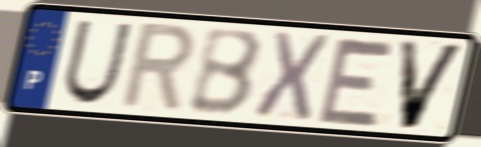B: (186, 28, 265, 119)
E: (315, 33, 399, 130)
R: (116, 20, 198, 116)
U: (60, 18, 135, 107)
V: (396, 37, 469, 133)
X: (250, 28, 333, 123)
